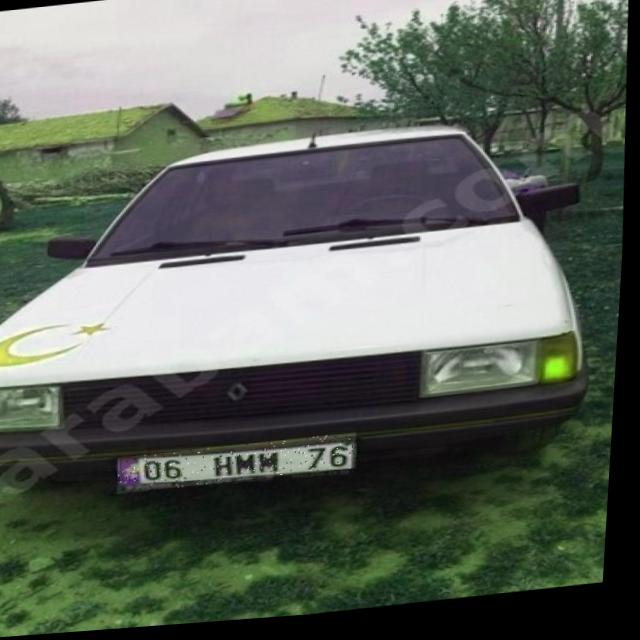license_plate: (122, 438, 363, 496)
